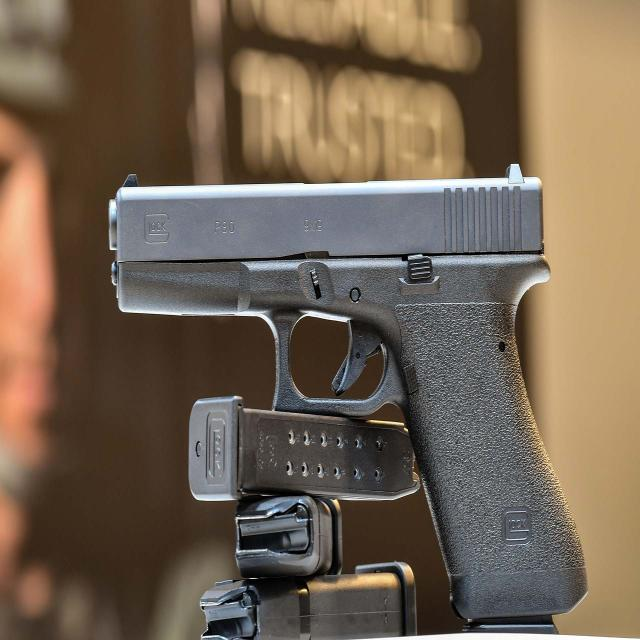HandGun: (111, 170, 587, 631)
